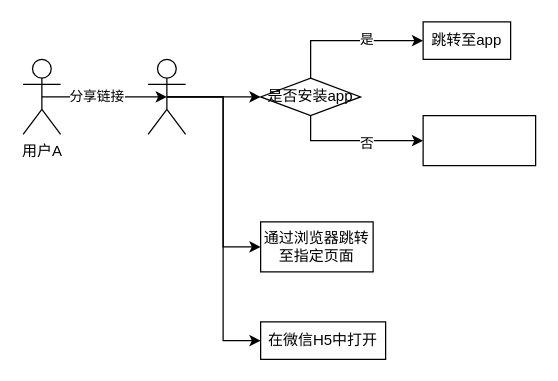
Image size: 558x381. Some labels were removed from this diagram. Here are the shapes that lost their labels. From the top down, the centre of each, then its label:
At [166,96]: "用户B".
At [479,140]: "跳转至应用市场，下载app".
